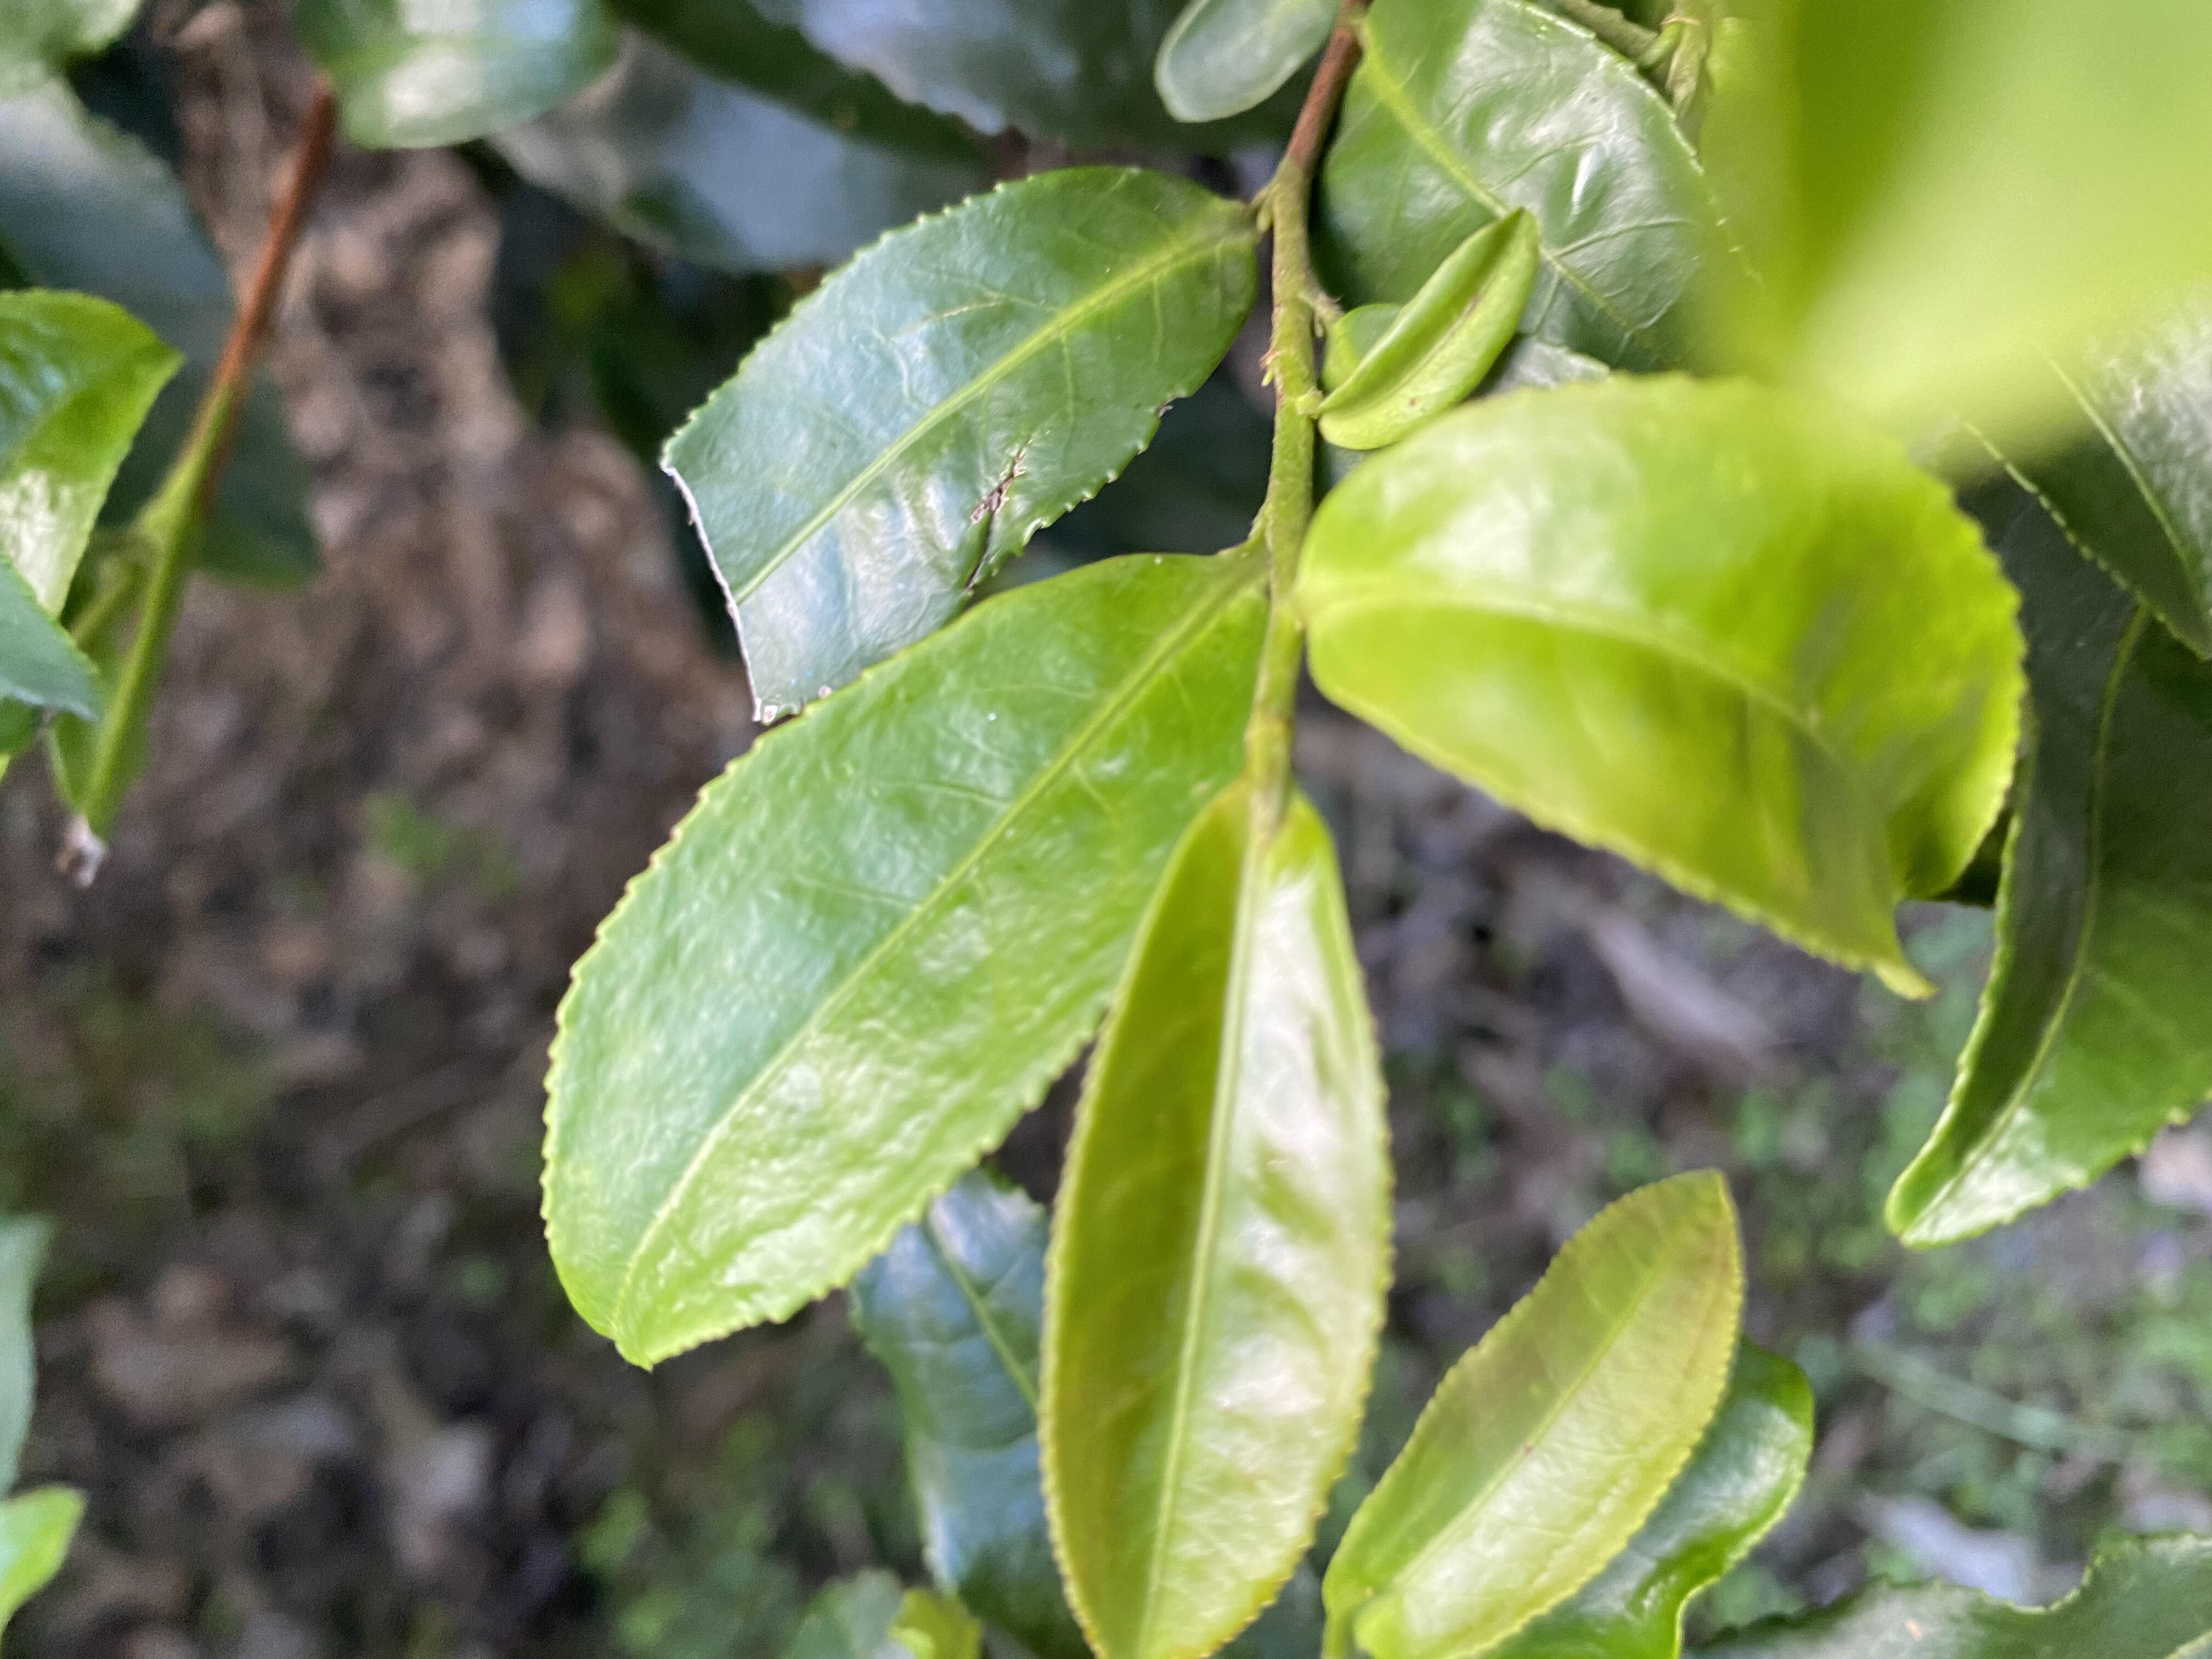chihuo_high: (655, 162, 1264, 725)
healthy: (536, 549, 1270, 1377), (1031, 777, 1397, 1656), (1322, 1166, 1754, 1659)
